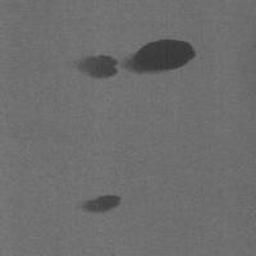Oil spot: (72, 37, 197, 81), (79, 193, 123, 215)
